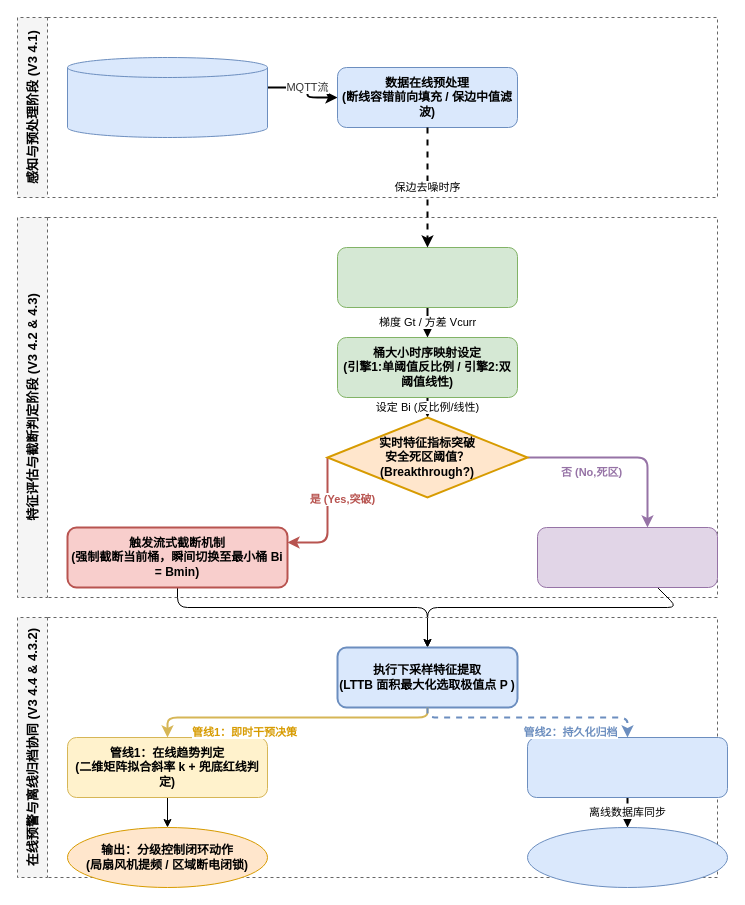
Some shapes in this 745 by 905 pixel diagram are drawn without their labels. The shapes that lost their labels are listed below. From the top down, each one's centre as x and y in pixels, then its label:
point (167, 97): 获取井下流式瓦斯监测数据 (基于MQTT/任意标准协议接入 RingBuffer)
point (427, 277): 提取瞬时与积聚能量特征 (计算一阶梯度 / 计算滑动方差)
point (627, 557): 维持原有分桶映射设定 (锁定安全大桶 Bi = Bmax)
point (627, 767): 管线2：离线归档协同 (后向迭代补偿: 合并平稳小桶 / 分裂高方差大桶)
point (627, 857): 精确锁定 M 个压缩点数 落盘固化至时序数据库 (TSDB)
